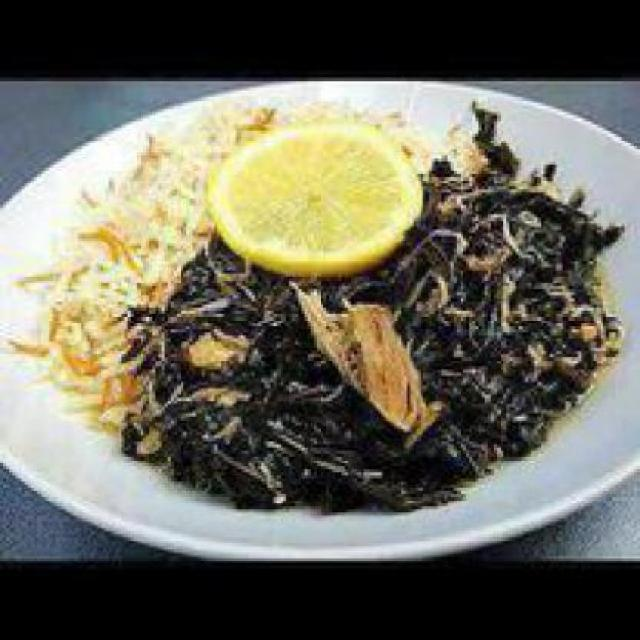fried rice: (22, 105, 205, 407)
molokhia: (208, 202, 603, 509)
